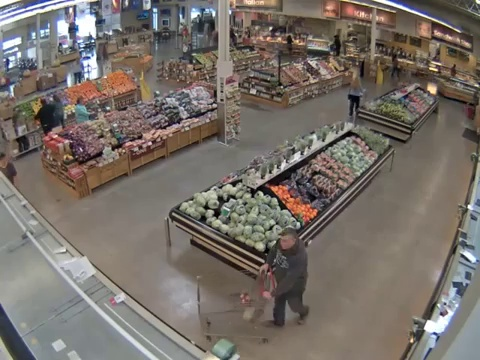face: (279, 233, 296, 249), (79, 97, 84, 103)
